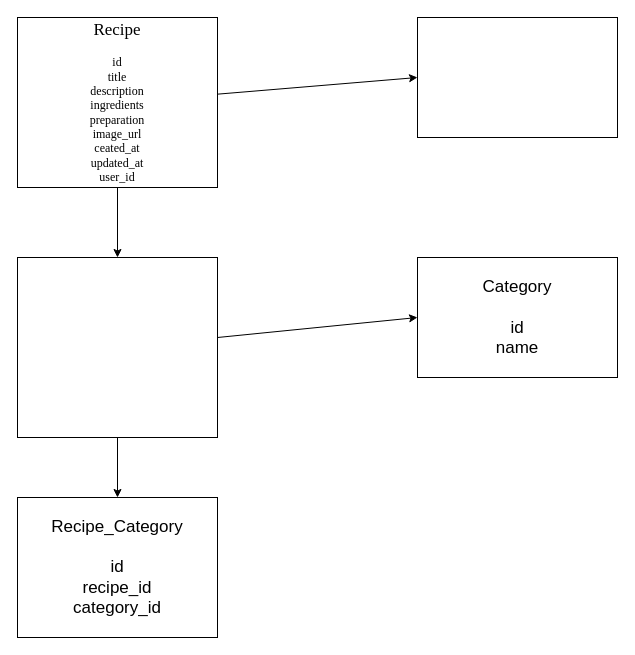
Some shapes in this 635 by 655 pixel diagram are drawn without their labels. Each missing label, with the centre of its shape:
"Review id comment rating created_at updated_at user_id recipe_id" belongs at point (117, 347).
"User id email password" belongs at point (517, 77).
